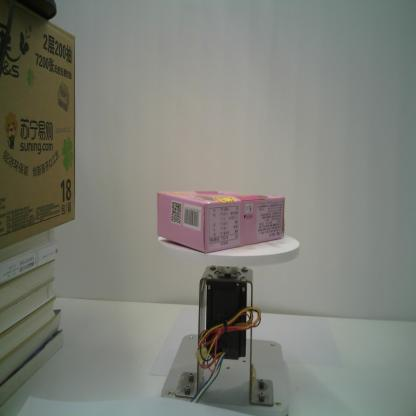Dessert: (156, 187, 286, 255)
